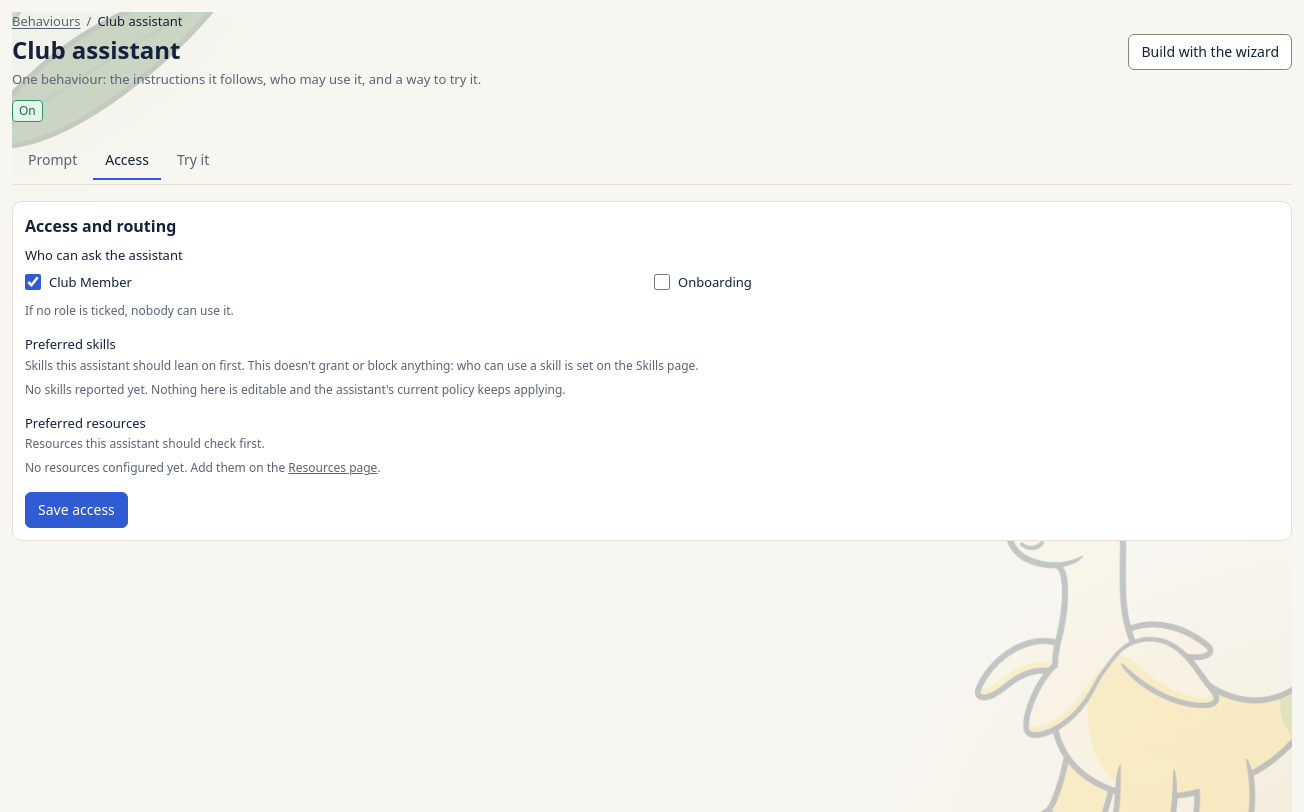
Test: AssistantBehaviourDetailPage › saves the caller-role allowlist with the unchanged whole-object PUT body
The image size is (1304, 812).
Click the checkbox labelled "Onboarding": (662, 282) x1=654 y1=274 x2=670 y2=290
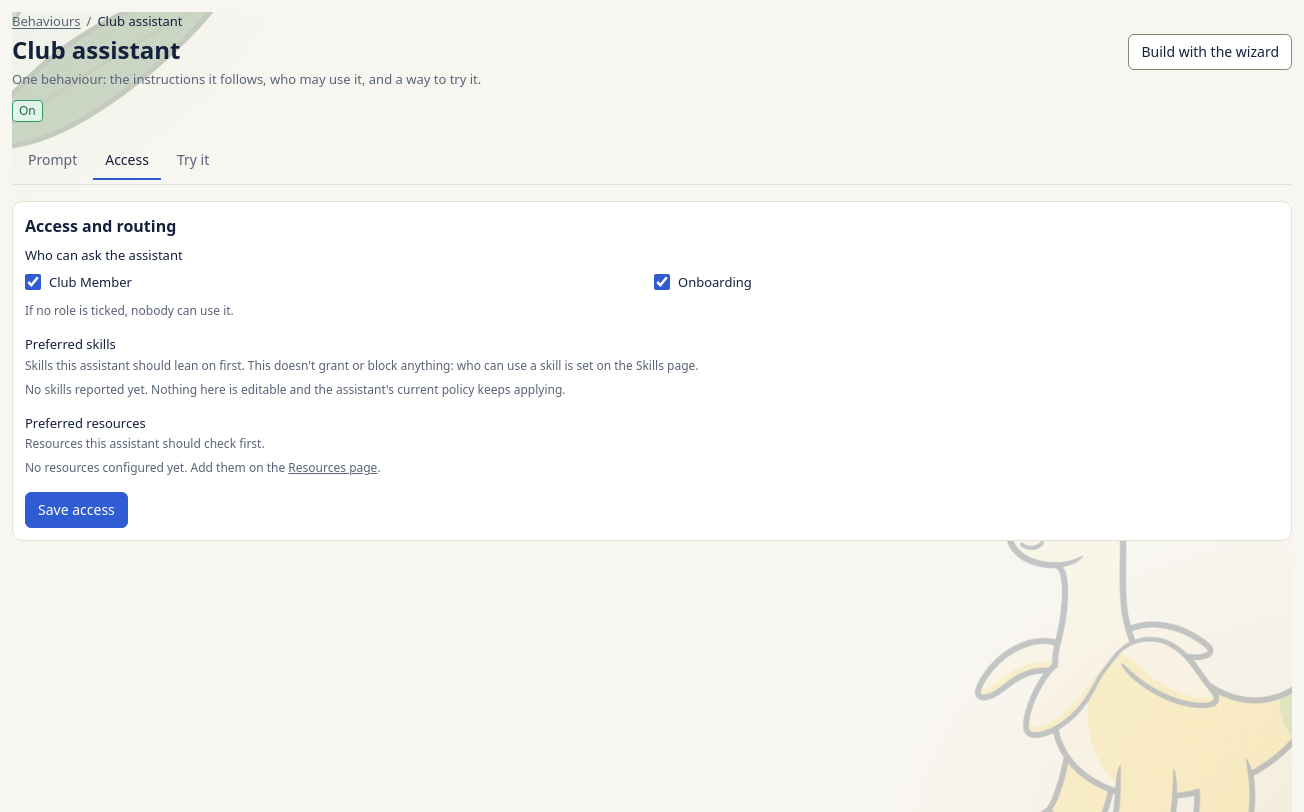
Click the button "Save access": (76, 510) x1=25 y1=492 x2=128 y2=528
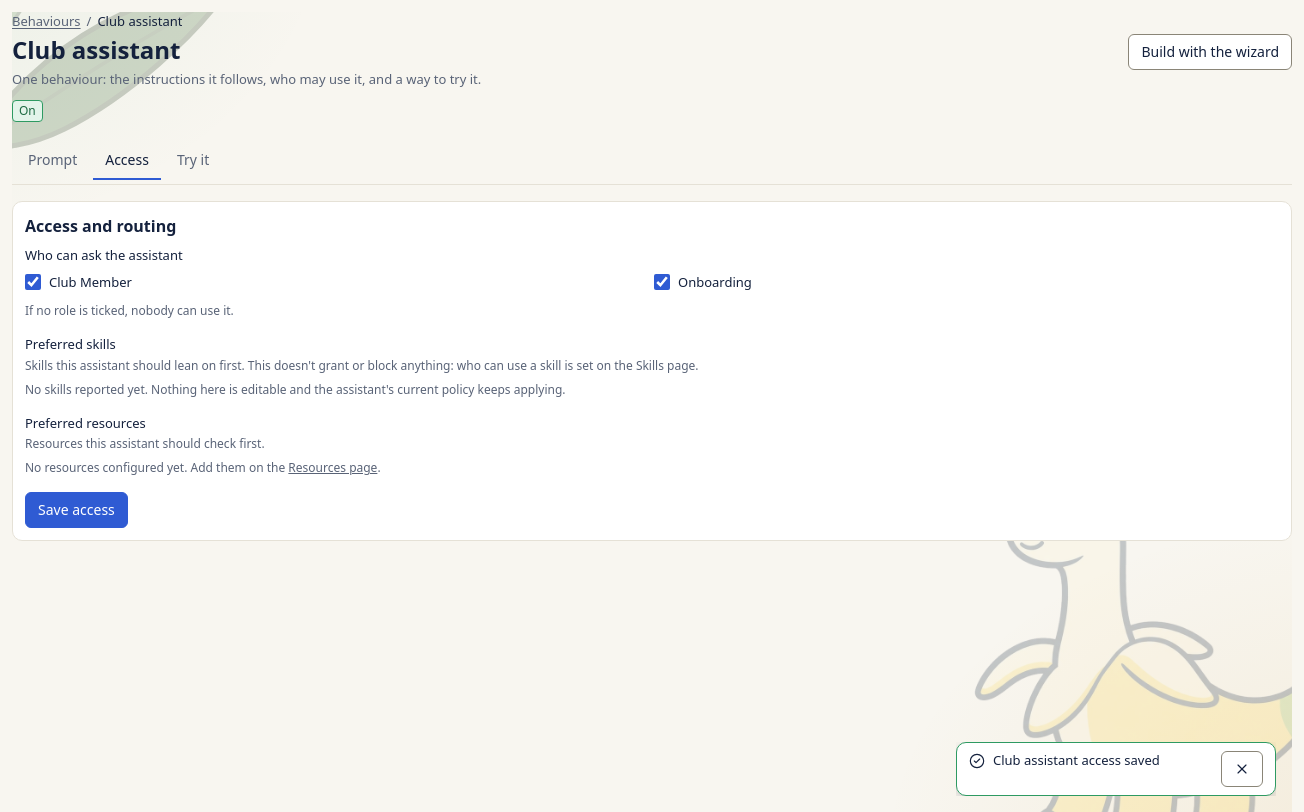
expect the text "Club assistant access saved" is shown: met, box x1=993 y1=751 x2=1160 y2=769
